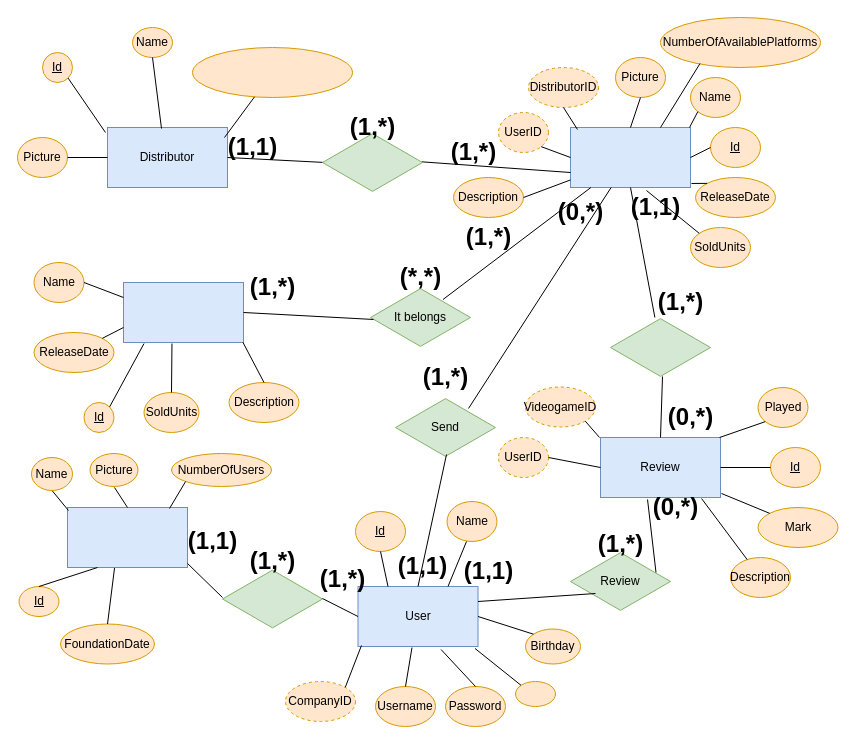
Some shapes in this 856 by 744 pixel diagram are drawn without their labels. The centre of each missing label's shape, as x and y in pixels:
"Company" goes at (127,537).
"Dni" goes at (535,693).
"has" goes at (272,598).
"Is reviewed" goes at (660,347).
"NumberOfGamesPublished" goes at (272,72).
"Platform" goes at (183,312).
"Publish" goes at (372,162).
"Videogame" goes at (630,157).
